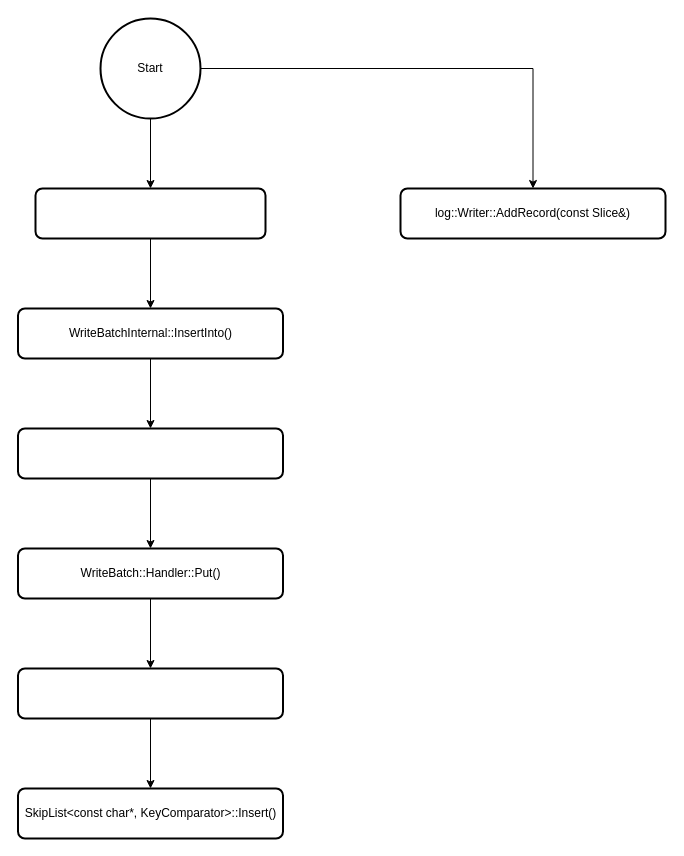
This 684x856 diagram has some shape labels left out. The shapes that lost their labels are listed below. From the top down, each one's centre as x and y in pixels, then its label:
the point at 150,213: DB::Write()
the point at 150,453: WriteBatch::Iterate()
the point at 150,693: MemTable::Put()
